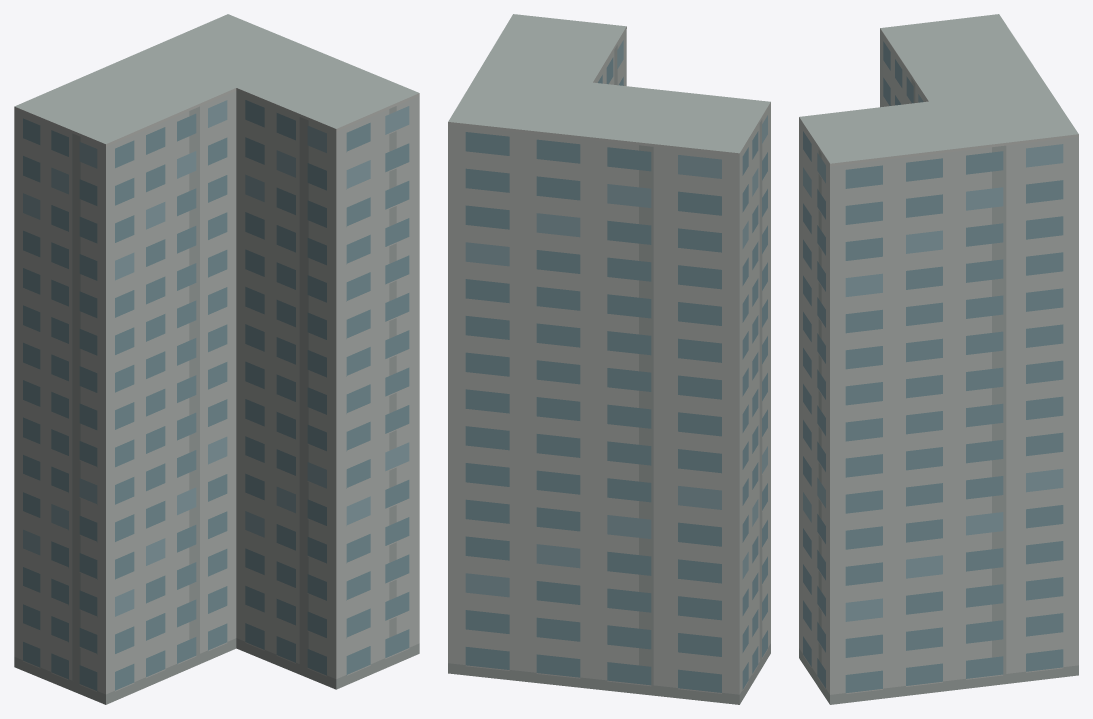
File: residential-456e51ad-a4a3-42bd-ad7d-fb8e08f28709.glb
The picture shows the model from 3 angles, left to right: view 1: azimuth 30°, elevation 25°; view 2: azimuth 150°, elevation 25°; view 3: azimuth 270°, elevation 25°; orthographic projection. The views are drawn at different scales.
Parts seen in each view (by area): view 1: residential-456e51ad-a4a3-42bd-ad7d-fb8e08f28709.tmp; view 2: residential-456e51ad-a4a3-42bd-ad7d-fb8e08f28709.tmp; view 3: residential-456e51ad-a4a3-42bd-ad7d-fb8e08f28709.tmp.
Boxes of the visible parts, x1,y1,x2,y2 form: residential-456e51ad-a4a3-42bd-ad7d-fb8e08f28709.tmp: [14, 14, 419, 704]; residential-456e51ad-a4a3-42bd-ad7d-fb8e08f28709.tmp: [448, 14, 770, 704]; residential-456e51ad-a4a3-42bd-ad7d-fb8e08f28709.tmp: [799, 14, 1078, 704].
Bounding box in the file's own units: 28.48 × 48 × 22.5.
